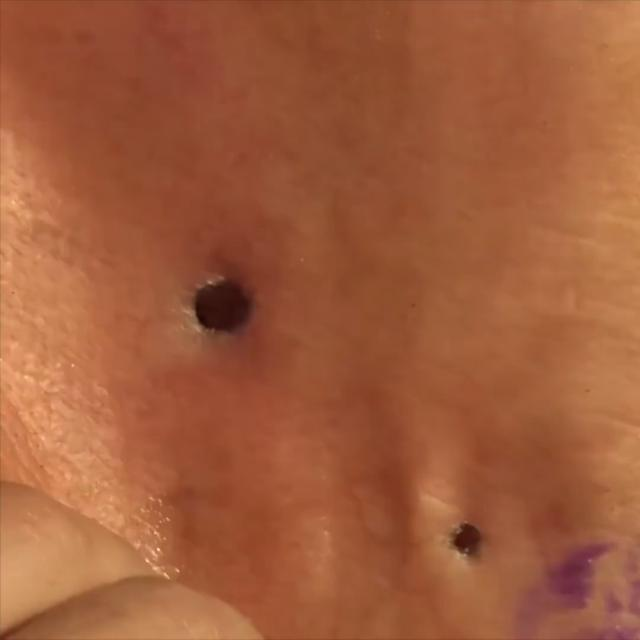bullets: (182, 273, 260, 343), (444, 520, 490, 560)
